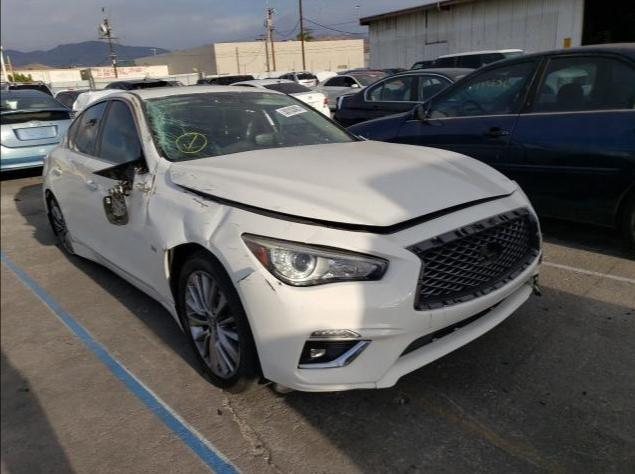Broken part: (169, 180, 516, 238), (401, 206, 540, 311), (89, 146, 156, 227), (63, 230, 110, 269), (127, 93, 142, 123), (522, 274, 543, 294), (234, 269, 257, 285)
Cracked: (141, 91, 360, 164)
Dent: (153, 191, 245, 266), (136, 172, 157, 211), (60, 161, 93, 183), (125, 190, 144, 224), (158, 166, 177, 189), (42, 153, 52, 177), (48, 164, 62, 180), (143, 127, 153, 148)
Paint chip: (147, 164, 157, 207), (135, 181, 150, 197), (193, 198, 208, 208), (265, 279, 275, 293), (149, 245, 156, 253), (182, 190, 190, 195), (276, 282, 283, 287), (160, 248, 167, 253), (152, 187, 156, 194)
Scratch: (191, 173, 199, 180), (204, 188, 214, 193)
